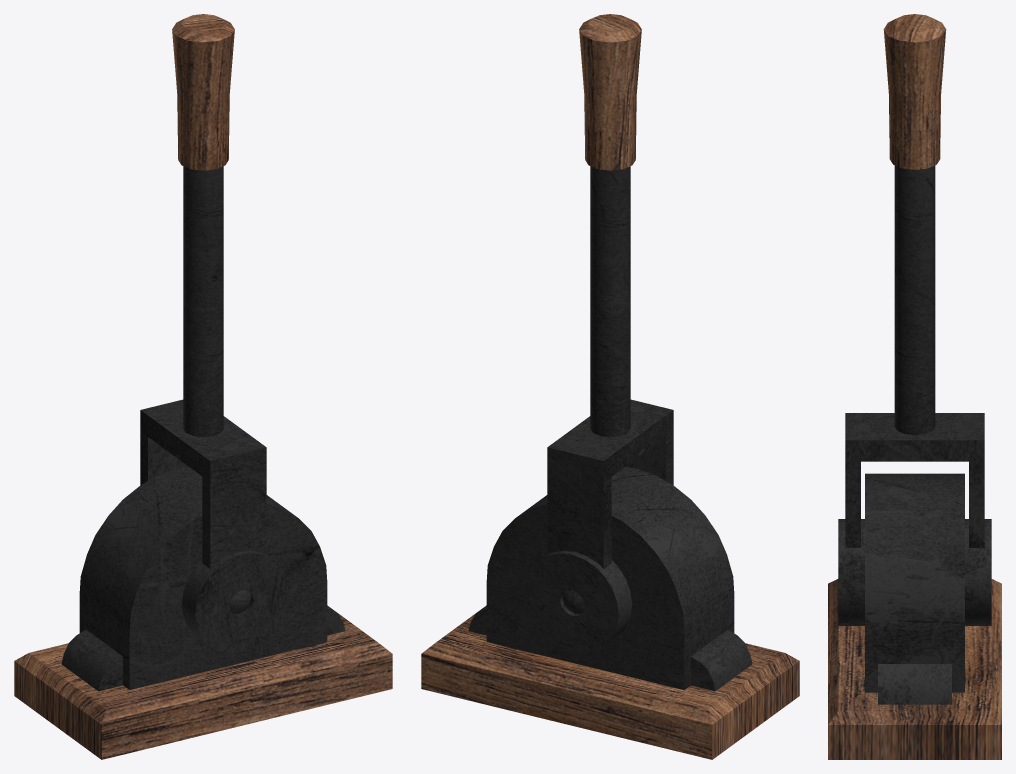
The model's file is lever.fbx.
3 renders of one model, left to right at view 1: azimuth 30°, elevation 25°; view 2: azimuth 150°, elevation 25°; view 3: azimuth 270°, elevation 25°, orthographic.
Parts seen in each view (by area): view 1: Cube, Cube.001; view 2: Cube, Cube.001; view 3: Cube, Cube.001.
Boxes of the visible parts, x1,y1,x2,y2 form: Cube: [14, 467, 392, 759]; Cube.001: [140, 14, 266, 568]; Cube: [421, 467, 799, 759]; Cube.001: [547, 14, 673, 568]; Cube: [828, 473, 1001, 759]; Cube.001: [845, 14, 984, 547].
Bounding box in the file's own units: 191 × 421 × 99.51.
